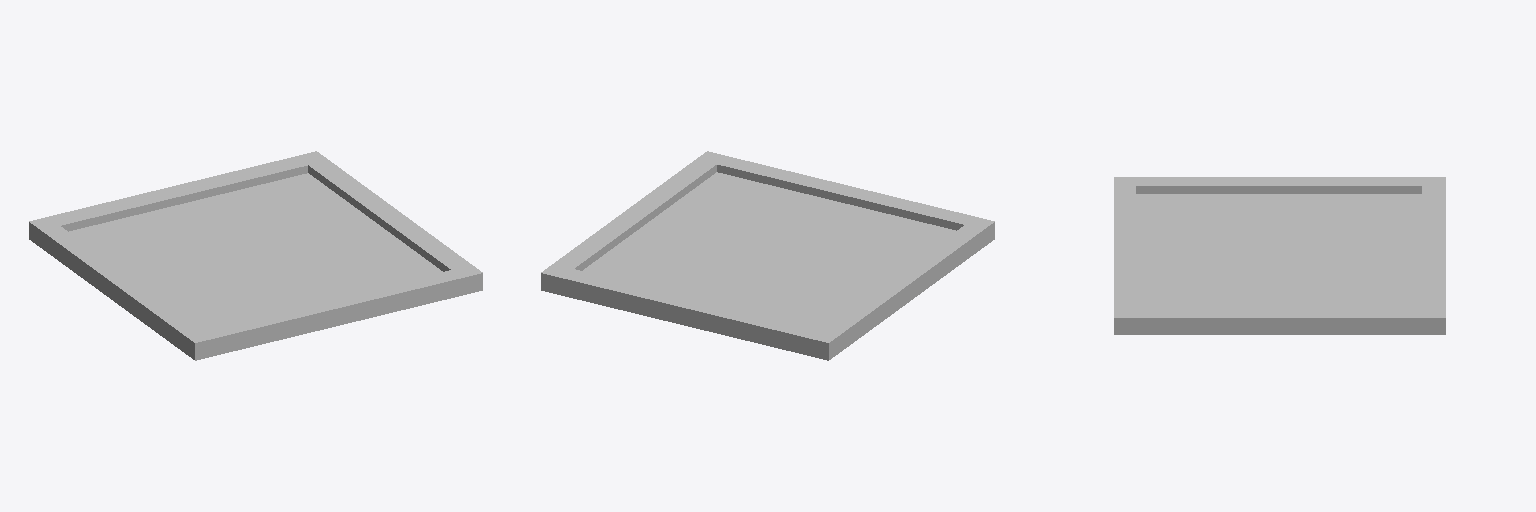
The model's file is PictureDisplay.obj.
3 views of the same model, side by side, from view 1: azimuth 30°, elevation 25°; view 2: azimuth 150°, elevation 25°; view 3: azimuth 270°, elevation 25° (orthographic).
Visible parts, largest first — view 1: Cube; view 2: Cube; view 3: Cube.
Part boxes in pixels (bbox=[...]): Cube: bbox=[29, 151, 482, 360]; Cube: bbox=[541, 151, 994, 360]; Cube: bbox=[1114, 177, 1445, 334].
Bounding box in the file's own units: 12 × 0.7 × 12.